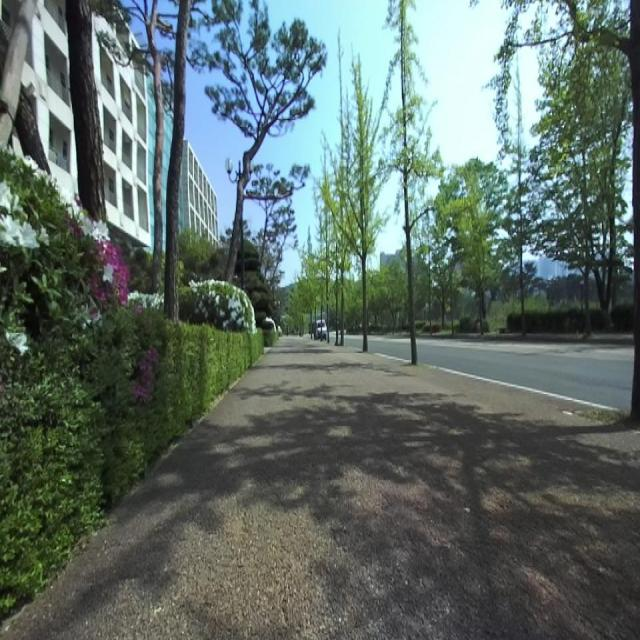sidewalk: (1, 338, 640, 639)
